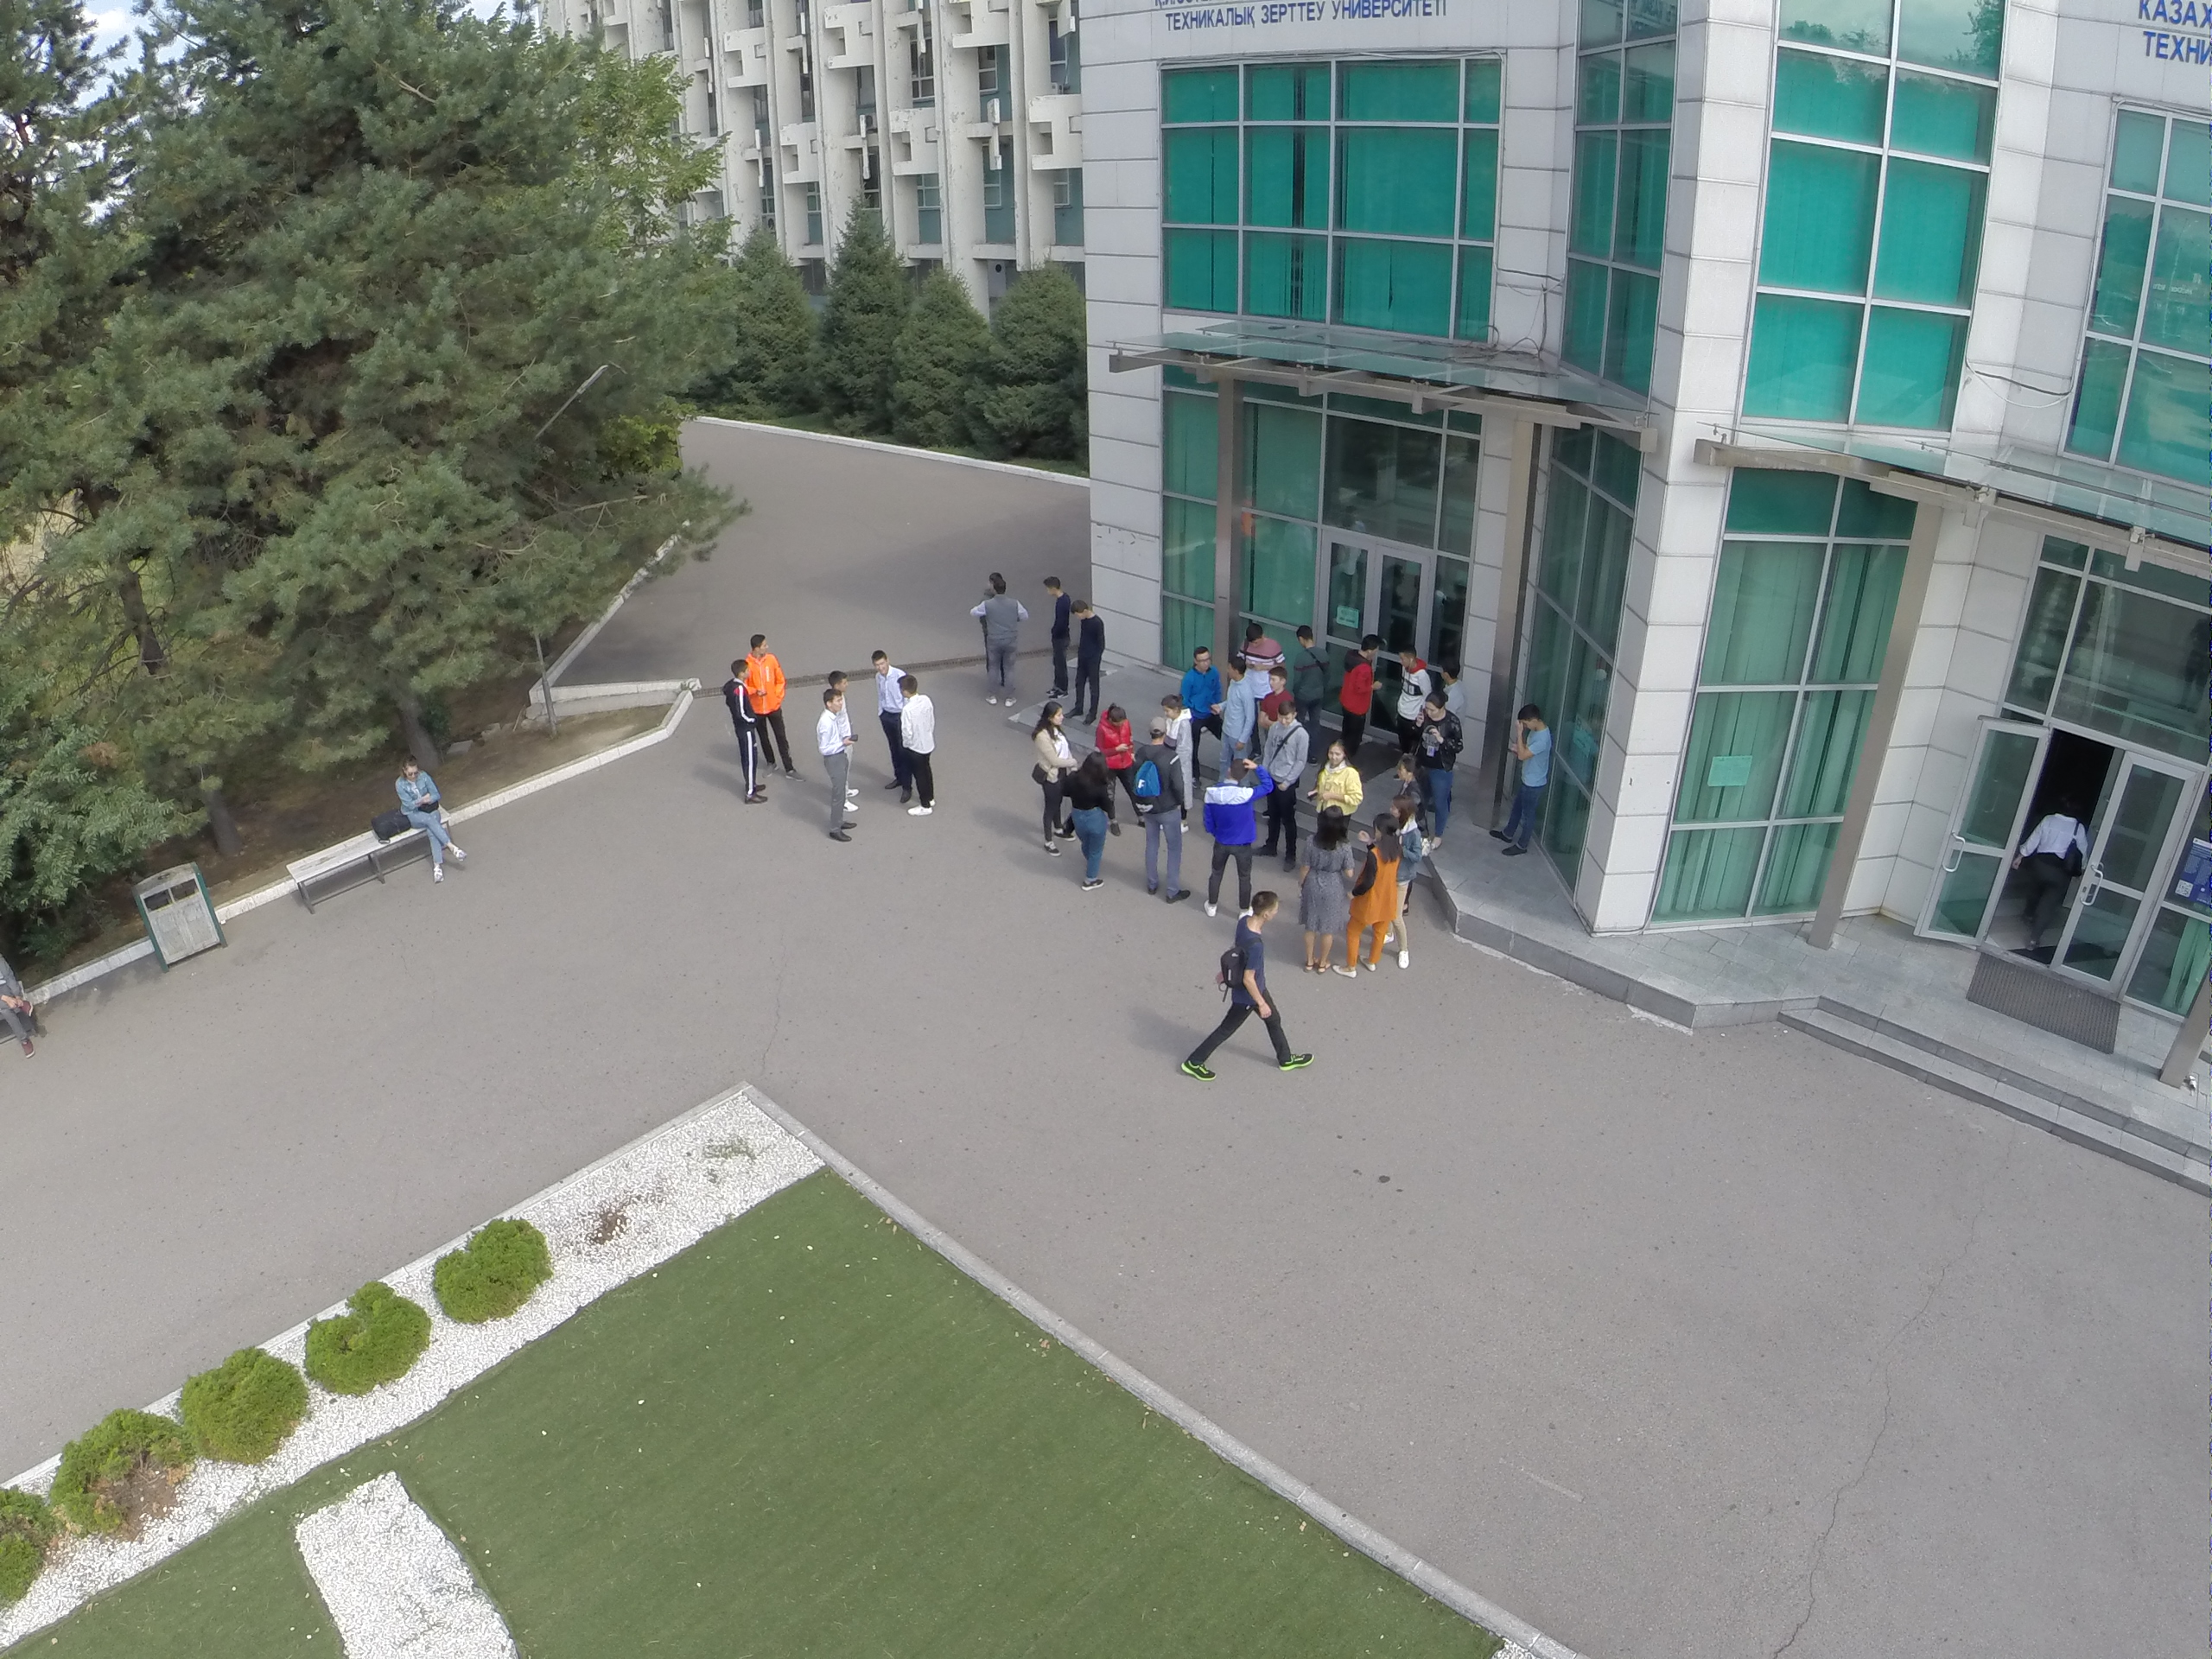person: (1179, 877, 1317, 1088), (2012, 786, 2083, 974), (1198, 753, 1276, 918), (1484, 705, 1559, 868), (1132, 717, 1192, 909), (395, 753, 474, 885), (709, 658, 769, 810), (1296, 797, 1345, 982), (741, 626, 798, 781), (1410, 687, 1461, 853), (967, 574, 1024, 706), (1351, 808, 1391, 988), (1026, 696, 1075, 844), (897, 671, 940, 820), (1275, 704, 1313, 866), (1068, 745, 1109, 892), (1385, 801, 1420, 976), (817, 690, 856, 840), (1337, 625, 1382, 748), (1096, 703, 1138, 835), (1216, 655, 1259, 769), (1285, 618, 1328, 722), (1384, 642, 1425, 749), (869, 642, 899, 779), (1038, 569, 1067, 699), (1072, 597, 1103, 719), (1318, 739, 1364, 810), (1183, 645, 1221, 725), (1234, 614, 1279, 681), (1160, 690, 1198, 756), (1437, 657, 1464, 723)
